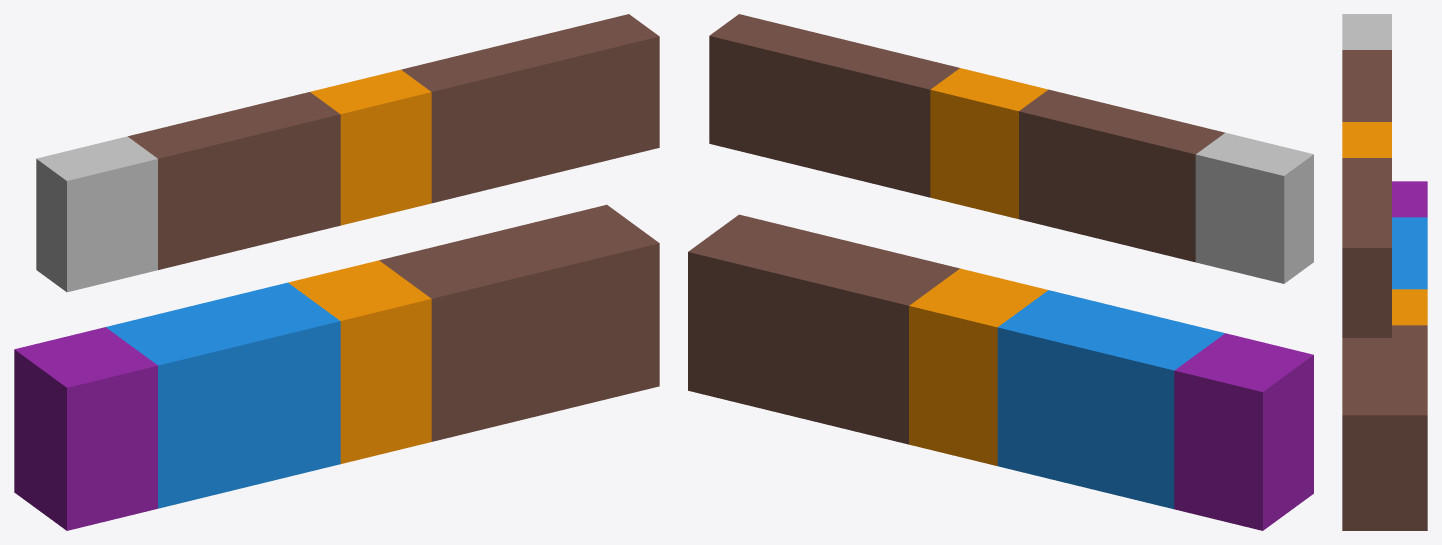
Rendered from i_shape_kitchen.obj.
The picture shows the model from 3 angles, left to right: view 1: azimuth 30°, elevation 25°; view 2: azimuth 150°, elevation 25°; view 3: azimuth 270°, elevation 25°; orthographic projection. The views are drawn at different scales.
Visible parts, largest first — view 1: fridge_0, sink_1, dishwasher_2, base_cabinet_4, stove_3, base_cabinet_5, upper_bridge_7, hood_10, upper_cabinet_11, upper_cabinet_8, upper_cabinet_9, upper_cabinet_12 (+2 smaller); view 2: fridge_0, dishwasher_2, base_cabinet_5, stove_3, base_cabinet_4, sink_1, upper_bridge_7, upper_cabinet_11, upper_cabinet_9, hood_10, upper_cabinet_8, upper_cabinet_12 (+2 smaller); view 3: narrow_cabinet_6, upper_narrow_13, base_cabinet_5, base_cabinet_4, upper_bridge_7, upper_cabinet_8, upper_cabinet_9, hood_10, upper_cabinet_11, upper_cabinet_12, fridge_0, sink_1 (+2 smaller).
Part boxes in pixels (x1=…): fridge_0: x1=14, y1=327, x2=157, y2=530; sink_1: x1=106, y1=305, x2=249, y2=508; dishwasher_2: x1=197, y1=282, x2=340, y2=486; base_cabinet_4: x1=379, y1=238, x2=522, y2=441; stove_3: x1=288, y1=260, x2=431, y2=463; base_cabinet_5: x1=470, y1=216, x2=613, y2=419; upper_bridge_7: x1=36, y1=136, x2=157, y2=292; hood_10: x1=310, y1=69, x2=431, y2=225; upper_cabinet_11: x1=401, y1=47, x2=522, y2=203; upper_cabinet_8: x1=128, y1=114, x2=249, y2=269; upper_cabinet_9: x1=219, y1=92, x2=340, y2=247; upper_cabinet_12: x1=492, y1=25, x2=613, y2=180; fridge_0: x1=1174, y1=333, x2=1313, y2=530; dishwasher_2: x1=997, y1=290, x2=1136, y2=487; base_cabinet_5: x1=732, y1=225, x2=870, y2=422; stove_3: x1=909, y1=268, x2=1047, y2=465; base_cabinet_4: x1=820, y1=247, x2=959, y2=444; sink_1: x1=1086, y1=311, x2=1224, y2=509; upper_bridge_7: x1=1195, y1=132, x2=1313, y2=283; upper_cabinet_11: x1=842, y1=46, x2=959, y2=197; upper_cabinet_9: x1=1019, y1=89, x2=1136, y2=240; hood_10: x1=930, y1=68, x2=1048, y2=219; upper_cabinet_8: x1=1107, y1=111, x2=1224, y2=262; upper_cabinet_12: x1=753, y1=25, x2=871, y2=175; narrow_cabinet_6: x1=1342, y1=397, x2=1427, y2=530; upper_narrow_13: x1=1342, y1=230, x2=1391, y2=337; base_cabinet_5: x1=1342, y1=361, x2=1427, y2=397; base_cabinet_4: x1=1342, y1=325, x2=1427, y2=361; upper_bridge_7: x1=1342, y1=14, x2=1391, y2=49; upper_cabinet_8: x1=1342, y1=50, x2=1391, y2=85; upper_cabinet_9: x1=1342, y1=86, x2=1391, y2=121; hood_10: x1=1342, y1=122, x2=1391, y2=157; upper_cabinet_11: x1=1342, y1=158, x2=1391, y2=193; upper_cabinet_12: x1=1342, y1=194, x2=1391, y2=229; fridge_0: x1=1392, y1=181, x2=1427, y2=217; sink_1: x1=1392, y1=217, x2=1427, y2=253.
Size of the model in its own units: 390 by 220 by 60.
